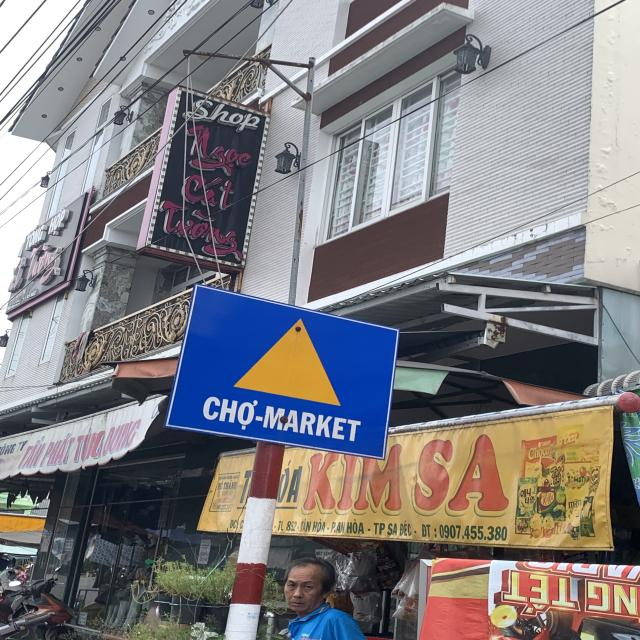Cho_Quay_Xe: (164, 283, 396, 457)
